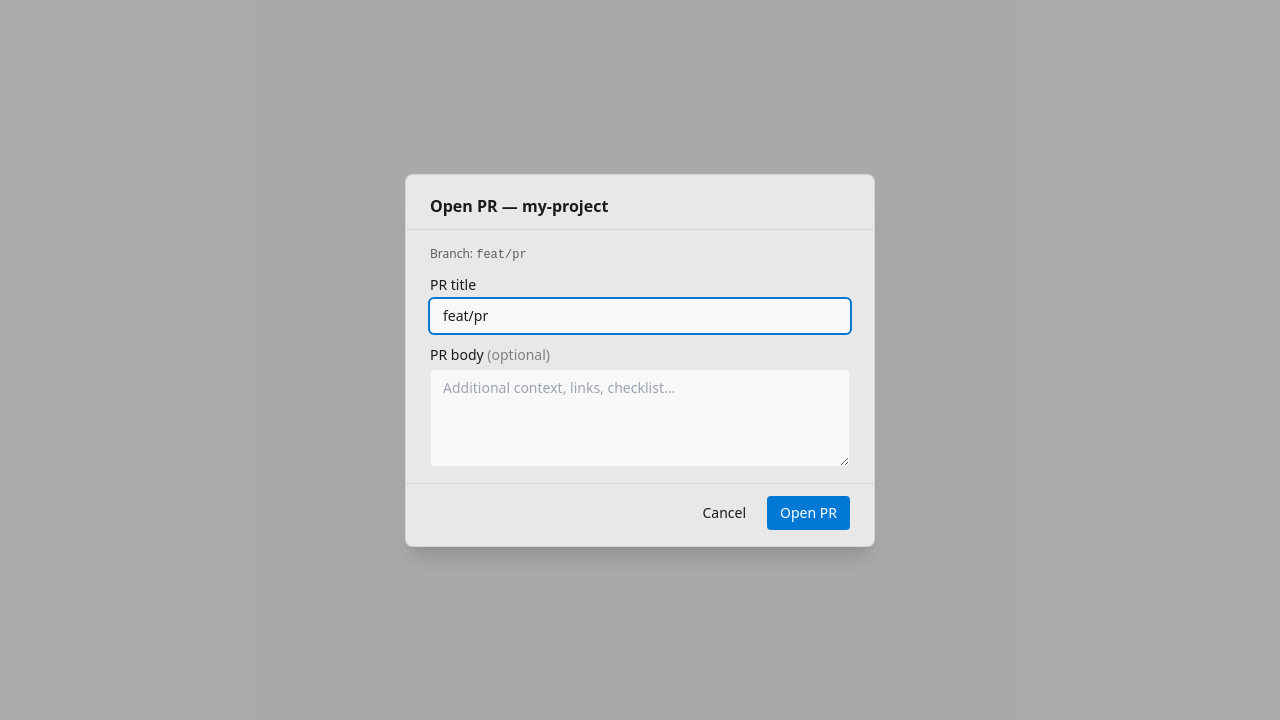
Test: OpenPrDialog › gh-not-found error shown inline verbatim
This screenshot has width=1280, height=720.
Expected: the field labelled "PR title" is shown, left=430, top=298, right=850, bottom=332
Click the button "Open PR". click: {"x": 809, "y": 512}
box: left=767, top=496, right=850, bottom=530
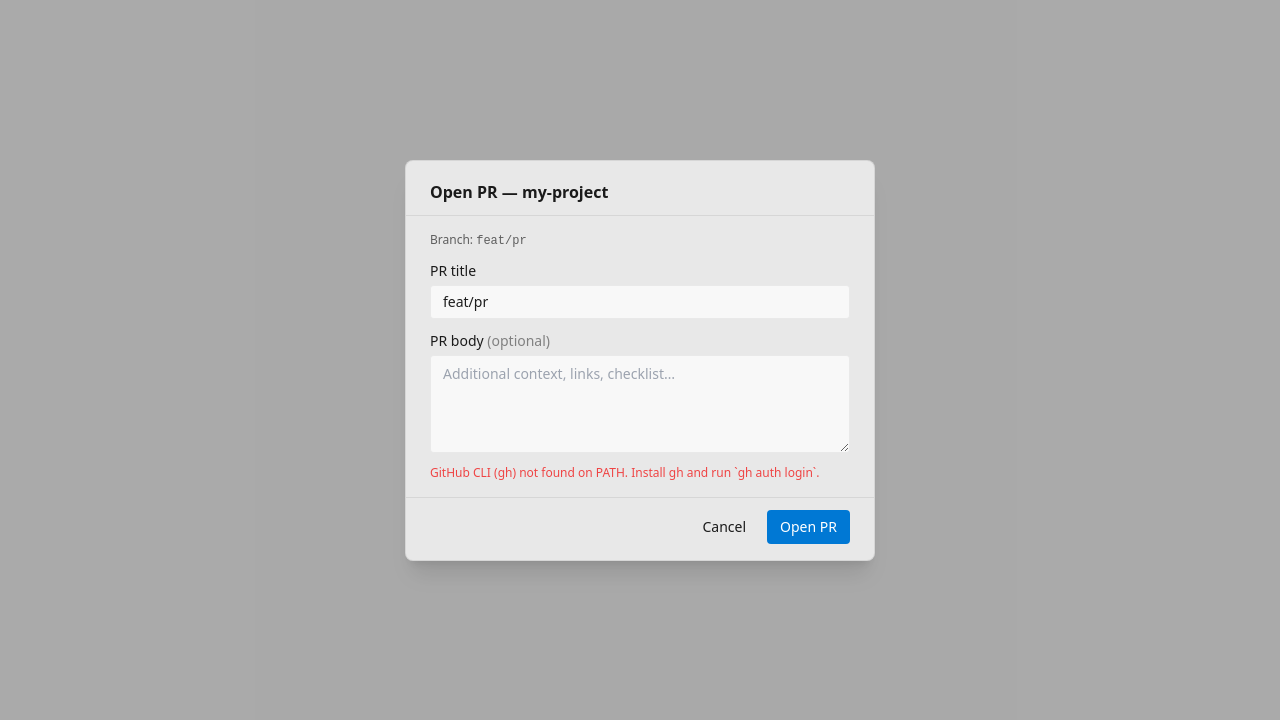
Expected: the message shows "GitHub CLI (gh) not found on PATH", left=430, top=464, right=819, bottom=480
